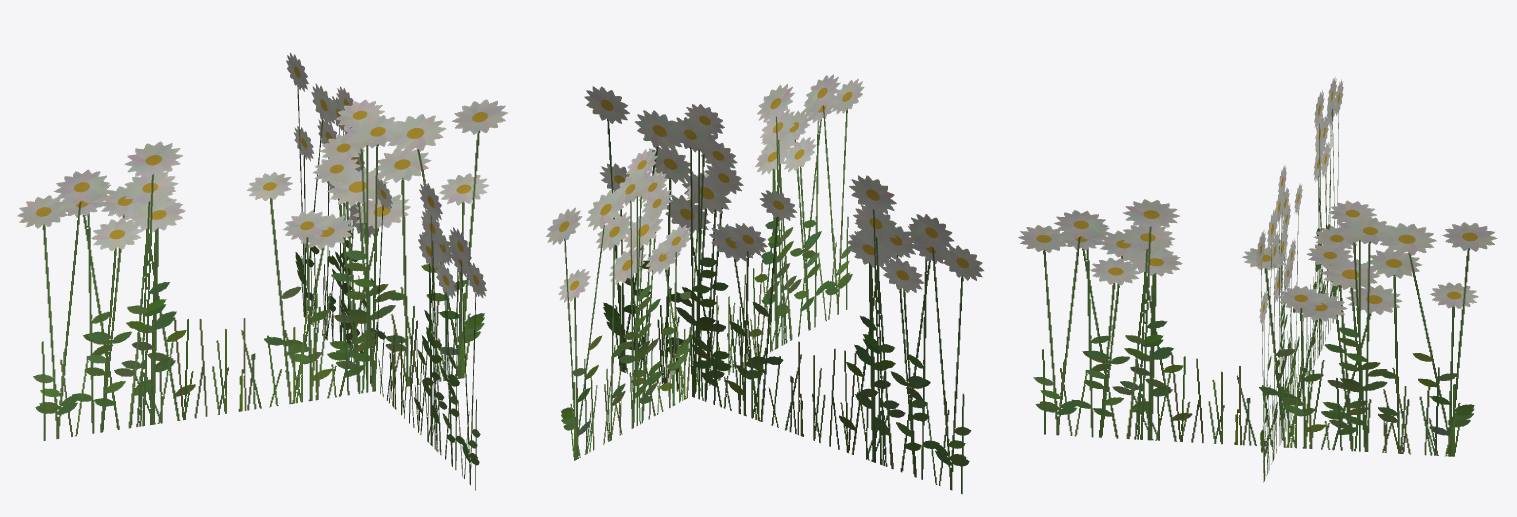
Rendered from Flower_3_Group_LOD2.gltf.
3 views of the same model, side by side, from view 1: azimuth 30°, elevation 25°; view 2: azimuth 150°, elevation 25°; view 3: azimuth 270°, elevation 25° (orthographic). The views are drawn at different scales.
Parts seen in each view (by area): view 1: Flower_3_Group_LOD2; view 2: Flower_3_Group_LOD2; view 3: Flower_3_Group_LOD2.
Boxes of the visible parts, left/top/right/bottom form: Flower_3_Group_LOD2: left=17, top=52, right=508, bottom=490; Flower_3_Group_LOD2: left=546, top=74, right=983, bottom=494; Flower_3_Group_LOD2: left=1018, top=77, right=1497, bottom=482.
Bounding box in the file's own units: 0.7007 × 0.4559 × 0.7067.
Materials: 1 (1 with a texture image).
